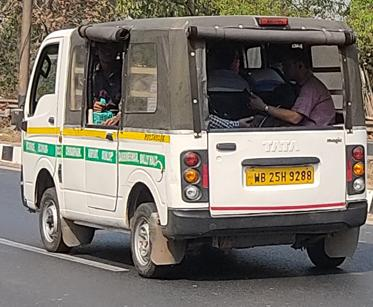Auto: (19, 12, 369, 278)
